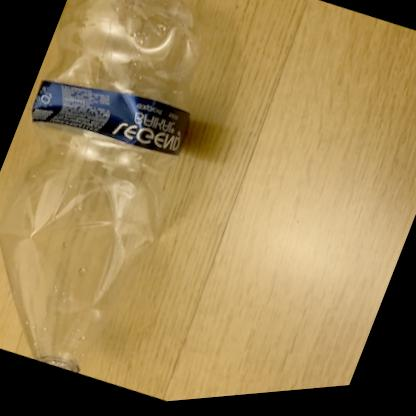Plastic: (0, 0, 198, 374)
